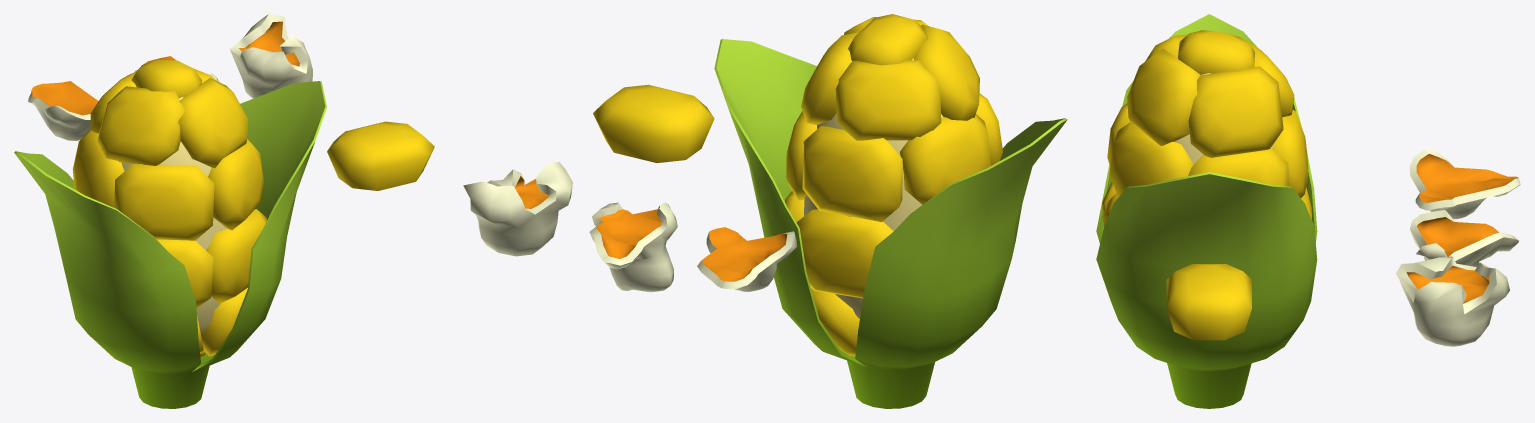
Rendered from corn.fbx.
3 renders of one model, left to right at view 1: azimuth 30°, elevation 25°; view 2: azimuth 150°, elevation 25°; view 3: azimuth 270°, elevation 25°, orthographic. The views are drawn at different scales.
Parts seen in each view (by area): view 1: corn_Leaves, corn_Pieces.008, corn_Piece, corn_Pieces.002, popcorn_3, corn_Pieces.004, corn_Pieces.007, corn_Pieces.014, popcorn_1, corn_Pieces.009, corn_Pieces.001, corn_Pieces.013 (+3 smaller); view 2: corn_Leaves, corn_Pieces.010, corn_Pieces.003, corn_Piece, popcorn_3, popcorn_2, corn_Pieces.011, corn_Pieces.009, popcorn_1, corn_Pieces.002, corn_Pieces.001, corn_Pieces.005 (+4 smaller); view 3: corn_Leaves, popcorn_3, corn_Pieces.005, corn_Piece, corn_Pieces.004, popcorn_1, popcorn_2, corn_Pieces.007, corn_Pieces.001, corn_Pieces.006, corn_Pieces.010, corn_Pieces.003 (+2 smaller).
Part boxes in pixels (x1,y1,x2,y2): corn_Leaves: (14,81,326,408); corn_Pieces.008: (114,163,214,240); corn_Piece: (327,121,434,190); corn_Pieces.002: (96,86,184,165); popcorn_3: (230,14,312,98); corn_Pieces.004: (178,78,247,167); corn_Pieces.007: (208,139,263,230); corn_Pieces.014: (206,209,267,303); popcorn_1: (28,81,98,140); corn_Pieces.009: (72,130,124,207); corn_Pieces.001: (131,60,202,98); corn_Pieces.013: (157,239,213,307); corn_Leaves: (714,39,1067,408); corn_Pieces.010: (802,126,902,221); corn_Pieces.003: (835,60,941,140); corn_Piece: (593,84,714,162); popcorn_3: (463,162,572,256); popcorn_2: (589,202,677,292); corn_Pieces.011: (796,209,893,298); corn_Pieces.009: (900,114,990,204); popcorn_1: (697,227,797,291); corn_Pieces.002: (913,24,979,120); corn_Pieces.001: (848,14,928,65); corn_Pieces.005: (801,32,858,124); corn_Leaves: (1096,14,1317,408); popcorn_3: (1396,256,1509,346); corn_Pieces.005: (1188,66,1283,157); corn_Piece: (1166,264,1251,340); corn_Pieces.004: (1127,48,1200,145); popcorn_1: (1409,148,1520,219); popcorn_2: (1410,210,1518,266); corn_Pieces.007: (1109,122,1193,196); corn_Pieces.001: (1178,30,1254,74); corn_Pieces.006: (1188,148,1288,186); corn_Pieces.010: (1272,109,1308,197); corn_Pieces.003: (1245,40,1294,117).
Size of the model in its own units: 2.06 by 1.73 by 1.61.
Materials: 1 (1 with a texture image).
